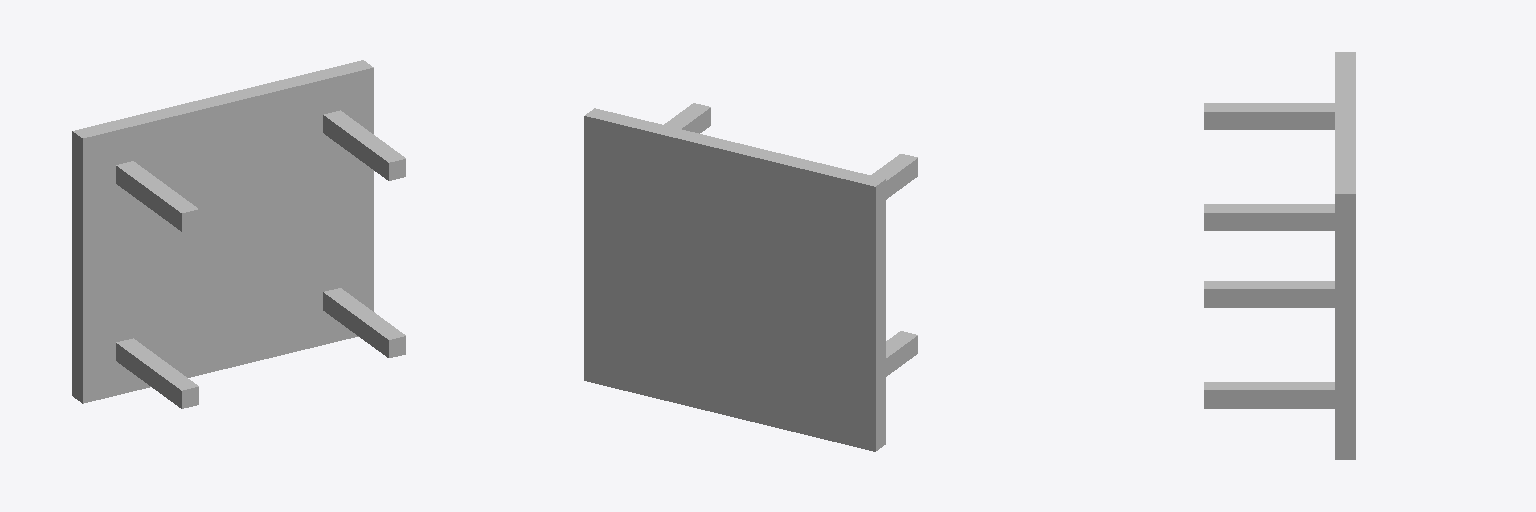
File: random_table4.obj
3 renders of one model, left to right at view 1: azimuth 30°, elevation 25°; view 2: azimuth 150°, elevation 25°; view 3: azimuth 270°, elevation 25°, orthographic.
Parts seen in each view (by area): view 1: Table_Cube.215, TableLeg3_Cube.219, TableLeg0_Cube.216, TableLeg1_Cube.217, TableLeg2_Cube.218; view 2: Table_Cube.215, TableLeg1_Cube.217, TableLeg3_Cube.219, TableLeg0_Cube.216; view 3: Table_Cube.215, TableLeg0_Cube.216, TableLeg1_Cube.217, TableLeg2_Cube.218, TableLeg3_Cube.219.
Boxes of the visible parts, <box> form: Table_Cube.215: <box>72,60,373,403</box>; TableLeg3_Cube.219: <box>116,338,198,408</box>; TableLeg0_Cube.216: <box>323,110,405,180</box>; TableLeg1_Cube.217: <box>116,161,198,231</box>; TableLeg2_Cube.218: <box>323,288,405,357</box>; Table_Cube.215: <box>584,108,885,451</box>; TableLeg1_Cube.217: <box>871,154,917,199</box>; TableLeg3_Cube.219: <box>886,331,917,376</box>; TableLeg0_Cube.216: <box>664,103,710,133</box>; Table_Cube.215: <box>1335,52,1355,459</box>; TableLeg0_Cube.216: <box>1204,204,1334,230</box>; TableLeg1_Cube.217: <box>1204,103,1334,129</box>; TableLeg2_Cube.218: <box>1204,382,1334,408</box>; TableLeg3_Cube.219: <box>1204,281,1334,307</box>.
Size of the model in its own units: 8.49 by 7.39 by 3.85.